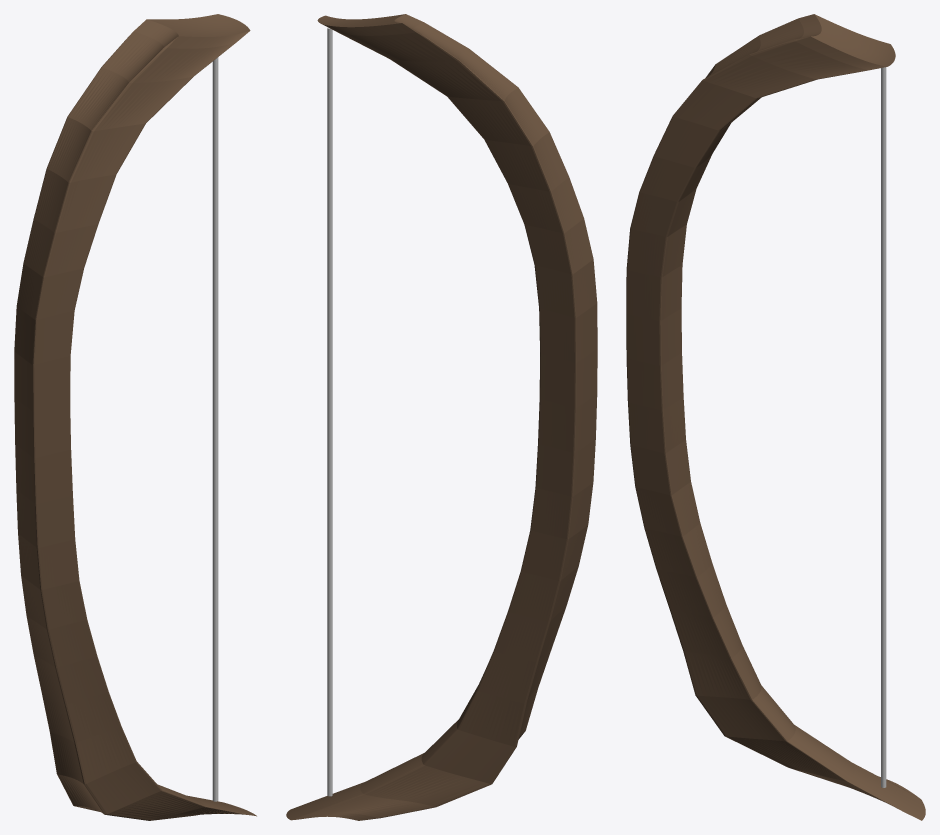
File: лук.fbx
The picture shows the model from 3 angles, left to right: view 1: azimuth 30°, elevation 25°; view 2: azimuth 150°, elevation 25°; view 3: azimuth 330°, elevation 25°; orthographic projection. The views are drawn at different scales.
Visible parts, largest first — view 1: лук; view 2: лук; view 3: лук.
Boxes of the visible parts, x1,y1,x2,y2 form: лук: [14, 14, 256, 820]; лук: [286, 14, 597, 820]; лук: [626, 14, 925, 820].
Size of the model in its own units: 166 by 489 by 67.12.
